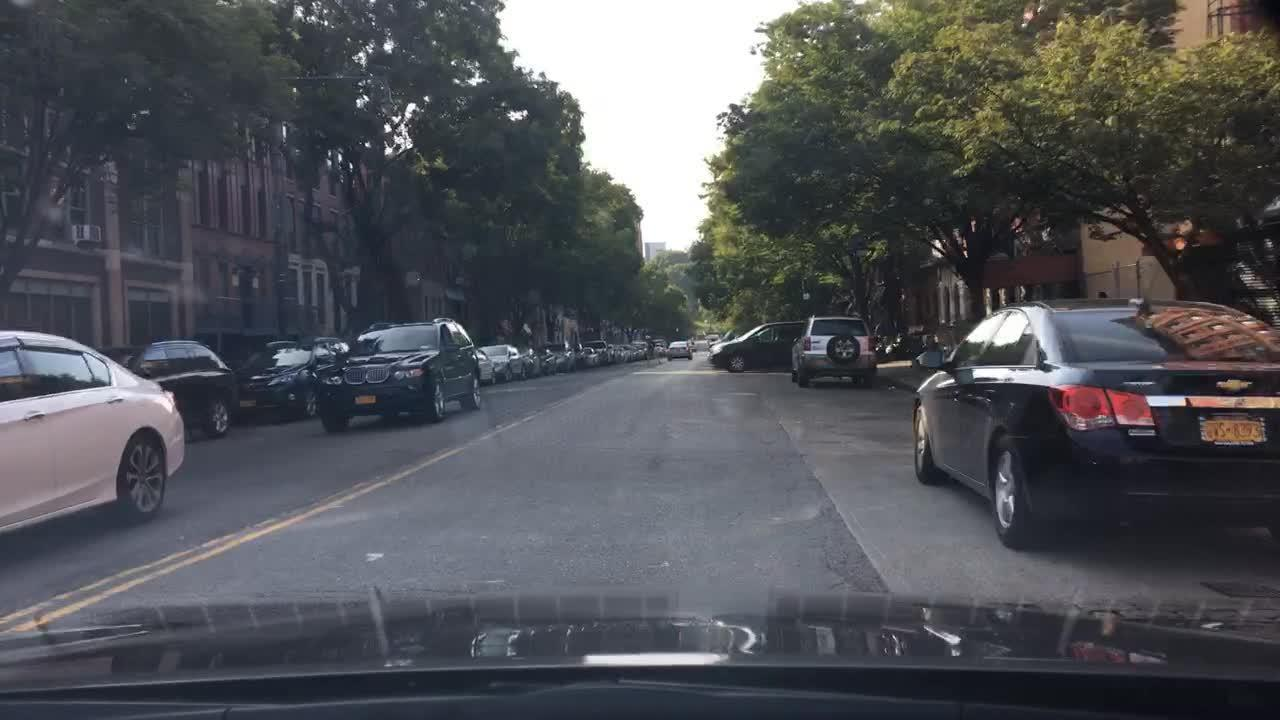chevrolet: (1207, 376, 1256, 397)
